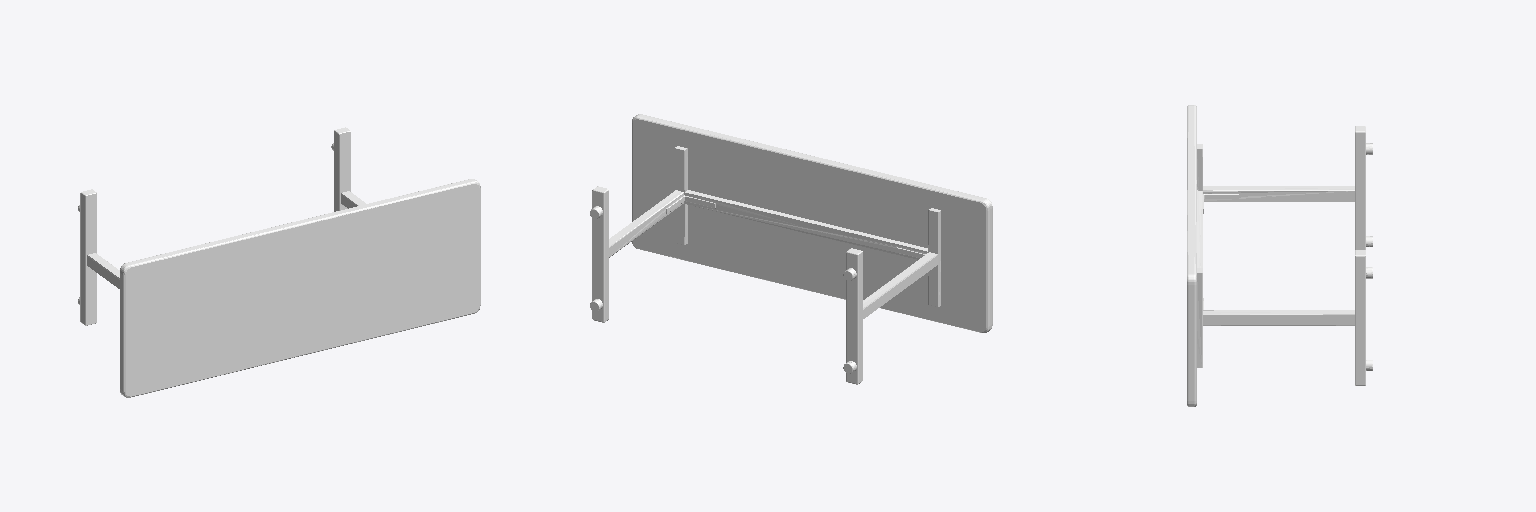
Rendered from table.obj.
The picture shows the model from 3 angles: view 1: azimuth 30°, elevation 25°; view 2: azimuth 150°, elevation 25°; view 3: azimuth 270°, elevation 25°; orthographic projection.
Parts seen in each view (by area): view 1: Object.1; view 2: Object.1; view 3: Object.1.
Boxes of the visible parts, box(x1,y1,x2,y2) form: Object.1: box(78, 127, 480, 397); Object.1: box(590, 114, 992, 384); Object.1: box(1187, 105, 1372, 406).
Bounding box in the file's own units: 113 × 39.89 × 51.08.